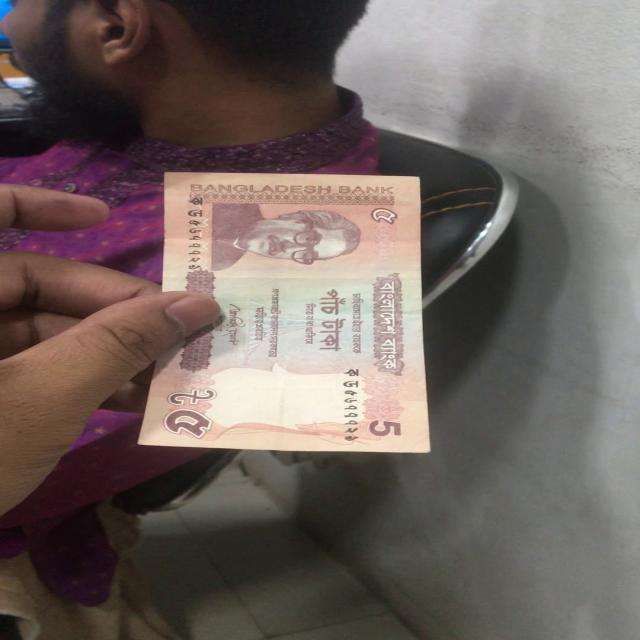Taka: (156, 171, 431, 455)
